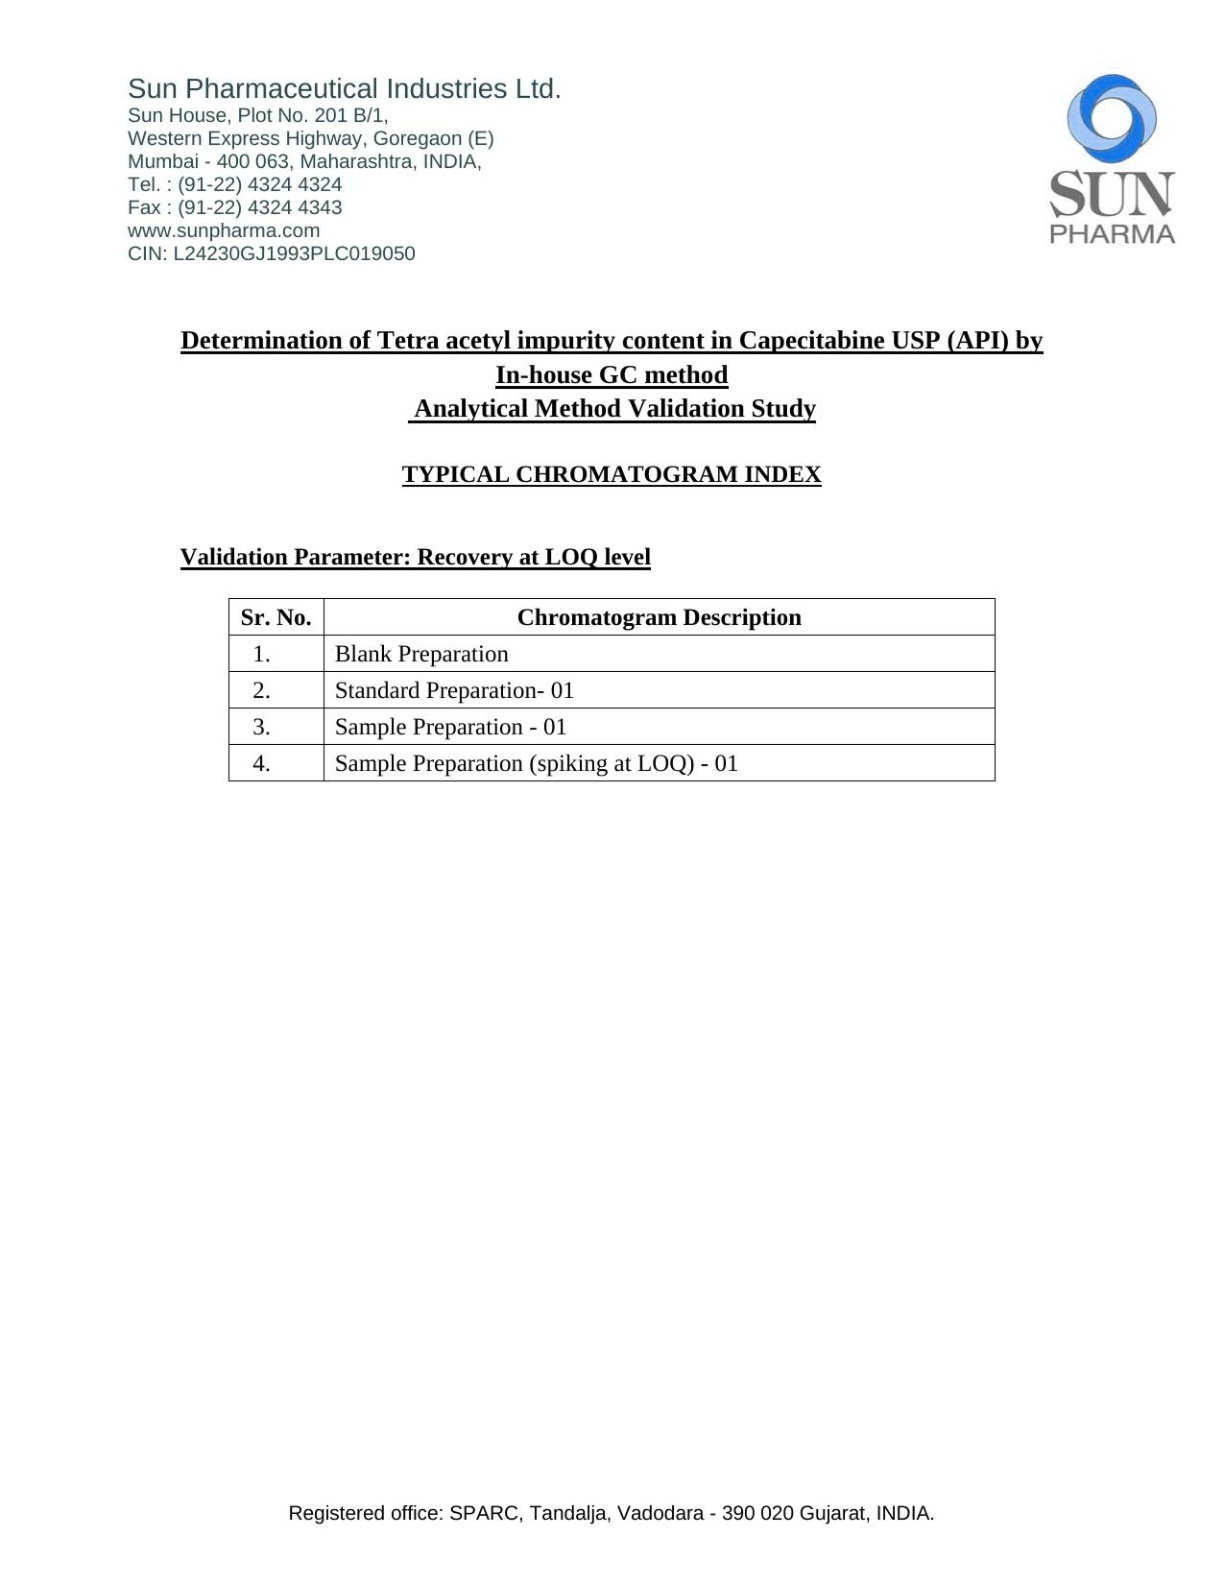full_lined: (226, 596, 996, 783)
